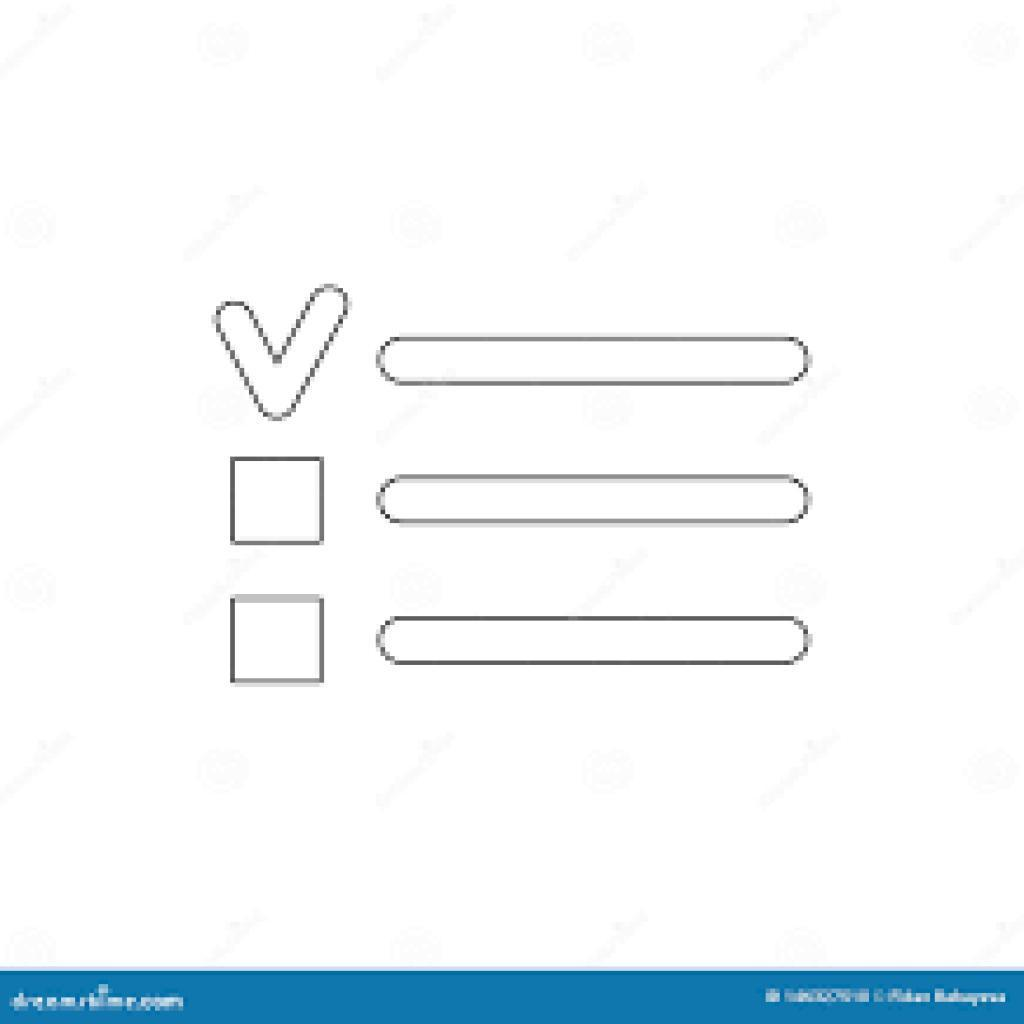checkbox: (231, 595, 324, 687), (232, 458, 326, 544)
